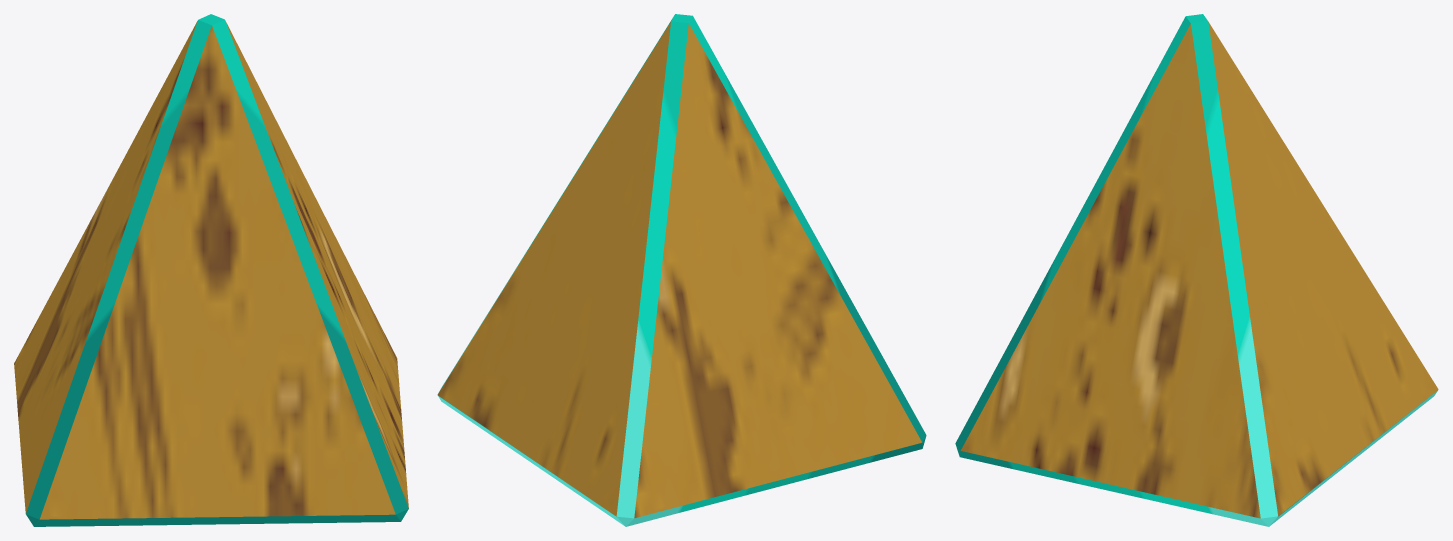
The model's file is PYRAMID_OPAQUE.glb.
The picture shows the model from 3 angles, left to right: view 1: azimuth 30°, elevation 25°; view 2: azimuth 150°, elevation 25°; view 3: azimuth 270°, elevation 25°; orthographic projection. The views are drawn at different scales.
Parts seen in each view (by area): view 1: Cone; view 2: Cone; view 3: Cone.
Boxes of the visible parts, x1,y1,x2,y2 form: Cone: (14,14,408,526); Cone: (437,14,926,526); Cone: (955,14,1438,526).
Bounding box in the file's own units: 2.13 × 1.99 × 2.13.
2 materials, 2 textured.
